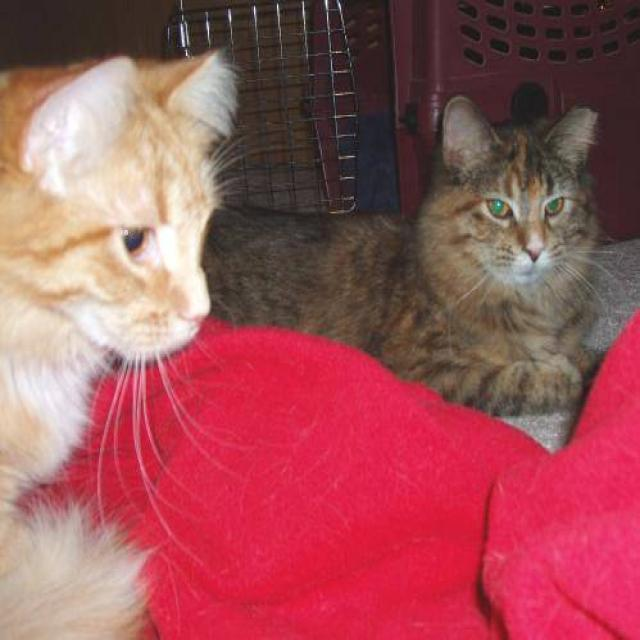cat: (0, 43, 246, 638), (200, 90, 614, 418)
